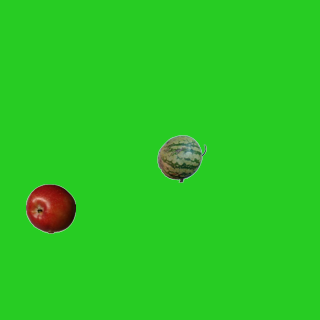Apple Braeburn: (25, 183, 75, 233)
Watermelon: (156, 133, 206, 183)
